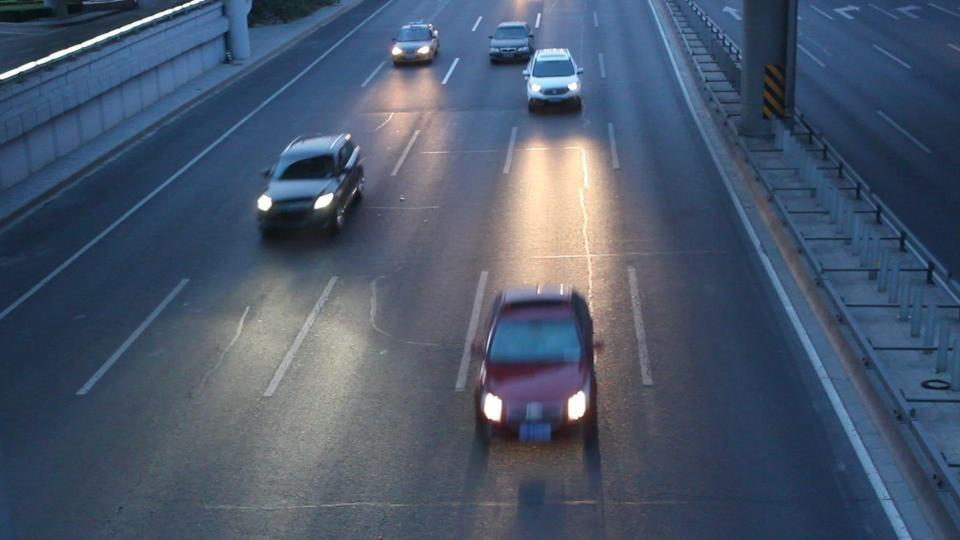car: (472, 282, 598, 443), (256, 131, 366, 237), (522, 47, 584, 114), (390, 21, 441, 67), (488, 21, 533, 65)
